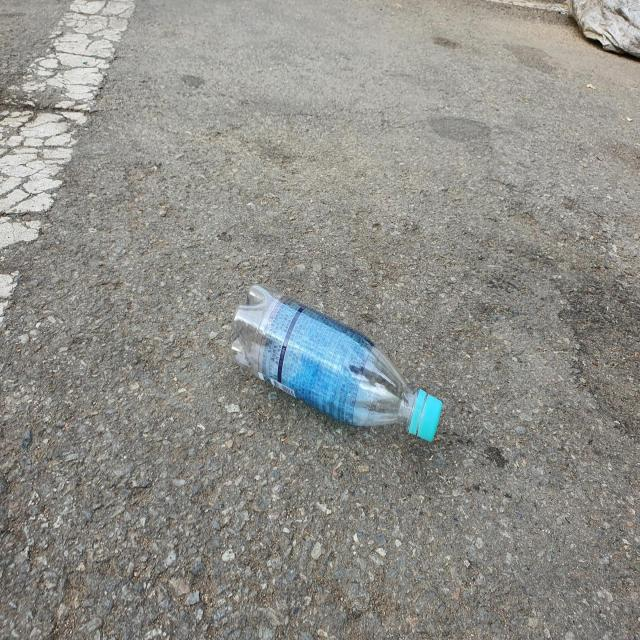plastic: (230, 284, 443, 441)
